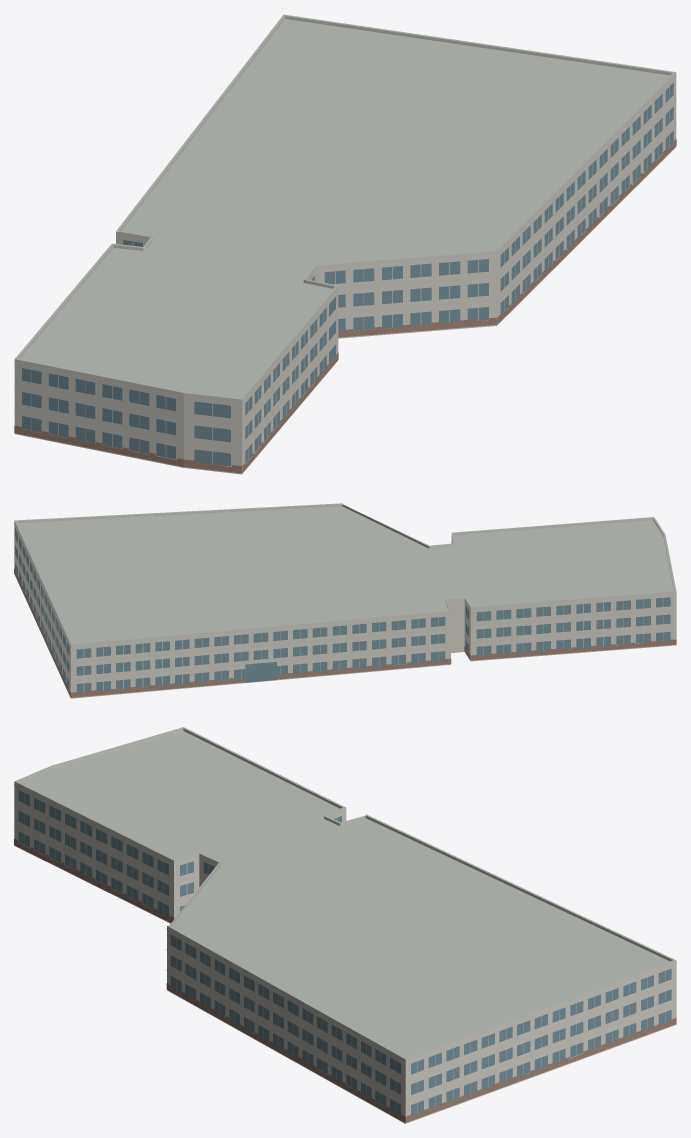
The model's file is public-686130e9-3176-4a73-839f-4564b4180065.glb.
3 renders of one model, top to bottom at view 1: azimuth 30°, elevation 25°; view 2: azimuth 150°, elevation 25°; view 3: azimuth 270°, elevation 25°, orthographic. The views are drawn at different scales.
Visible parts, largest first — view 1: public-686130e9-3176-4a73-839f-4564b4180065; view 2: public-686130e9-3176-4a73-839f-4564b4180065; view 3: public-686130e9-3176-4a73-839f-4564b4180065.
Boxes of the visible parts, bbox=[...] form: public-686130e9-3176-4a73-839f-4564b4180065: bbox=[14, 14, 676, 474]; public-686130e9-3176-4a73-839f-4564b4180065: bbox=[14, 503, 676, 698]; public-686130e9-3176-4a73-839f-4564b4180065: bbox=[14, 727, 676, 1123].
Size of the model in its own units: 101 by 9.15 by 85.2.
